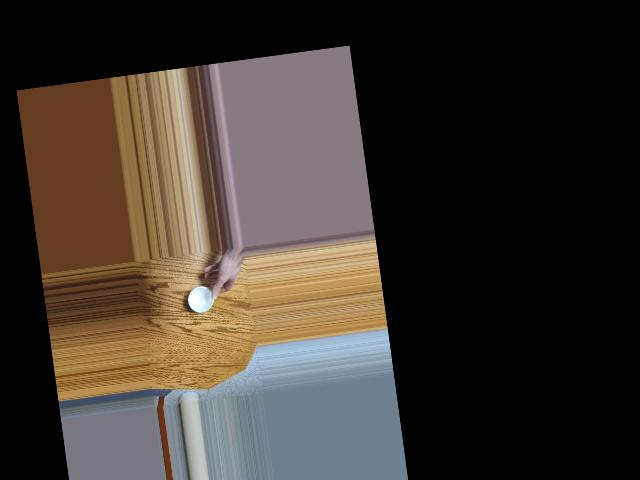cotage: (184, 281, 220, 317)
